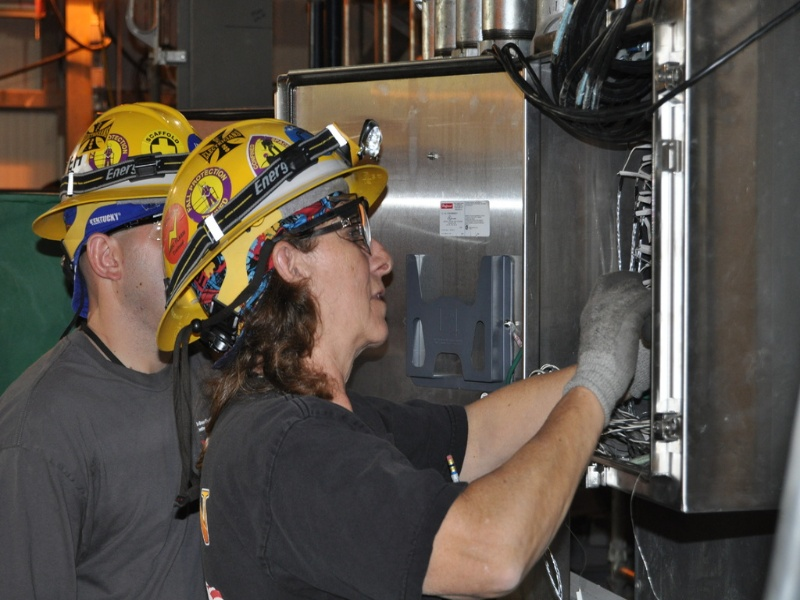helmet: (155, 117, 386, 346), (35, 103, 194, 223)
